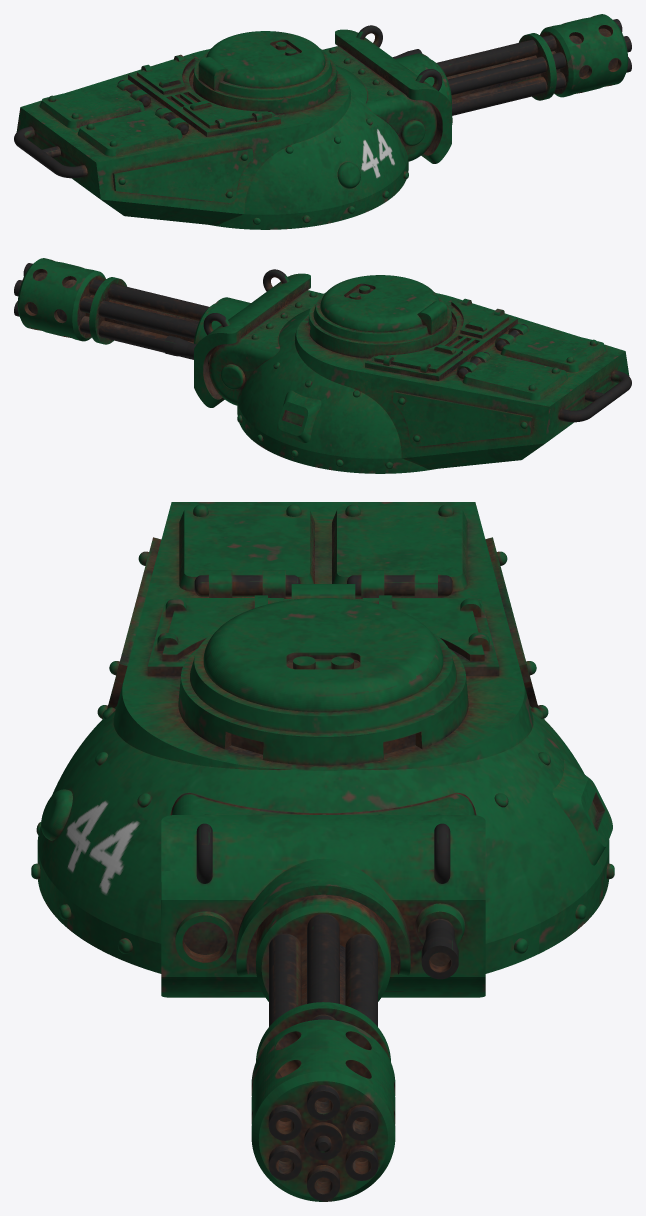
The model's file is towerPunisherSPP.glb.
3 renders of one model, top to bottom at view 1: azimuth 30°, elevation 25°; view 2: azimuth 150°, elevation 25°; view 3: azimuth 270°, elevation 25°, orthographic. The views are drawn at different scales.
Visible parts, largest first — view 1: PunnisherLemanRuss; view 2: PunnisherLemanRuss; view 3: PunnisherLemanRuss.
Part boxes in pixels (box(x1,y1,x2,y2)): PunnisherLemanRuss: box(14, 14, 631, 229); PunnisherLemanRuss: box(14, 258, 631, 473); PunnisherLemanRuss: box(31, 502, 614, 1201).
Size of the model in its own units: 9316 by 1808 by 4030.
1 material, 1 textured.
